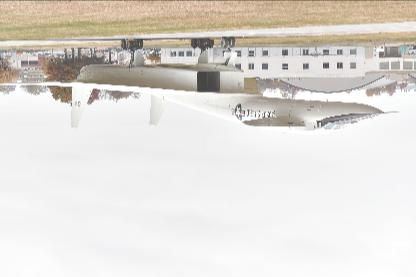U2: (0, 35, 399, 134)
